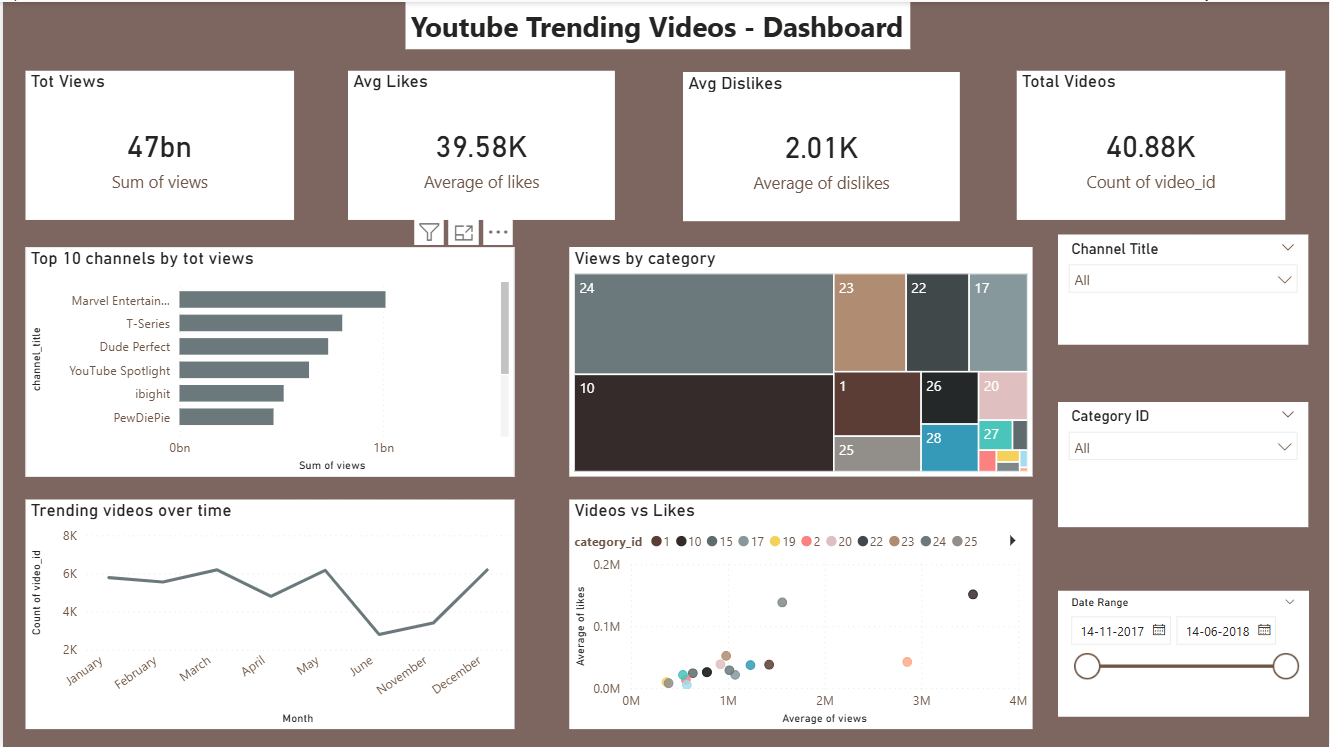

The page's visual inventory and layout, read from the dashboard file:
{"tool":"powerbi","page":{"name":"Page 1","canvas":[1280,720],"ordinal":0},"visuals":[{"type":"textbox","box":[388.3,0,487.1,45.3],"z":0},{"type":"card","title":"Tot Views","fields":{"Values":["Sum(CAvideos.views)"]},"box":[22,65.9,259.3,144.1],"z":1000},{"type":"card","title":"Avg Likes","fields":{"Values":["Avg(CAvideos.likes)"]},"box":[333.4,65.9,258,144.1],"z":2000},{"type":"card","title":"Avg Dislikes","fields":{"Values":["Avg(CAvideos.dislikes)"]},"box":[655.9,67.2,267.6,144.1],"z":3000},{"type":"card","title":"Total Videos","fields":{"Values":["CountNonNull(CAvideos.video_id)"]},"box":[978.4,65.9,259.3,144.1],"z":4000},{"type":"barChart","title":"Top 10 channels by tot views","fields":{"Y":["Sum(CAvideos.views)"],"Category":["CAvideos.channel_title"]},"box":[21.7,236.5,471.7,222],"z":5000},{"type":"lineChart","title":"Trending videos over time","fields":{"Category":["CAvideos.proper_date.Variation.Date Hierarchy.Month"],"Y":["CountNonNull(CAvideos.video_id)"]},"box":[21.7,480.2,471.7,222],"z":6000},{"type":"treemap","title":"Views by category","fields":{"Group":["CAvideos.category_id"],"Values":["Sum(CAvideos.views)"]},"box":[546.5,236.5,447.6,222],"z":7000},{"type":"scatterChart","title":"Videos vs Likes","fields":{"X":["Avg(CAvideos.views)"],"Y":["Avg(CAvideos.likes)"],"Series":["CAvideos.category_id"]},"box":[546.5,480.2,447.6,222],"z":8000},{"type":"slicer","fields":{"Values":["CAvideos.channel_title"]},"box":[1018.2,224.4,241.3,106.2],"z":9000},{"type":"slicer","fields":{"Values":["CAvideos.category_id"]},"box":[1018.2,386.1,241.3,120.6],"z":10000},{"type":"slicer","fields":{"Values":["CAvideos.proper_date"]},"box":[1018.2,568.2,241.3,120.6],"z":11000}]}

Visuals, with their boxes in screenshot pixels (x1, y1, x2, y2), scaled from the page's 1280x720 canvas onto the 1330x747 screenshot:
textbox: (403, 0, 910, 47)
"Tot Views" card: (23, 68, 292, 218)
"Avg Likes" card: (346, 68, 615, 218)
"Avg Dislikes" card: (682, 70, 960, 219)
"Total Videos" card: (1017, 68, 1286, 218)
"Top 10 channels by tot views" barChart: (23, 245, 513, 476)
"Trending videos over time" lineChart: (23, 498, 513, 729)
"Views by category" treemap: (568, 245, 1033, 476)
"Videos vs Likes" scatterChart: (568, 498, 1033, 729)
slicer - CAvideos.channel_title: (1058, 233, 1309, 343)
slicer - CAvideos.category_id: (1058, 401, 1309, 526)
slicer - CAvideos.proper_date: (1058, 590, 1309, 715)
